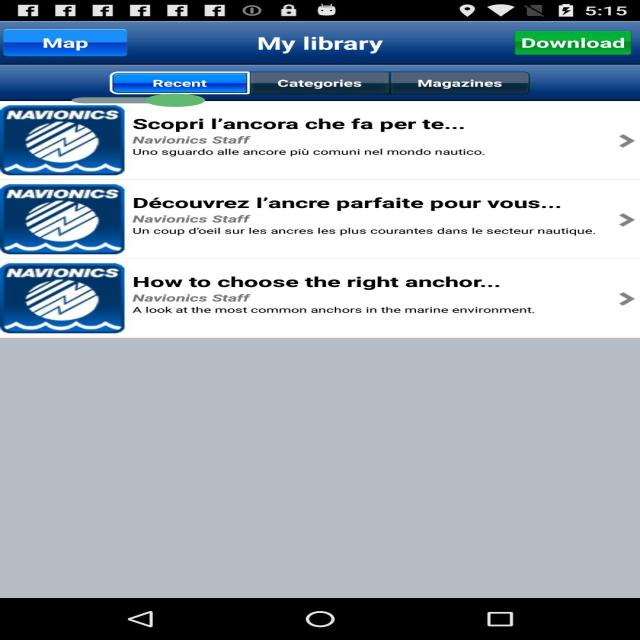social proof: (72, 86, 205, 115)
